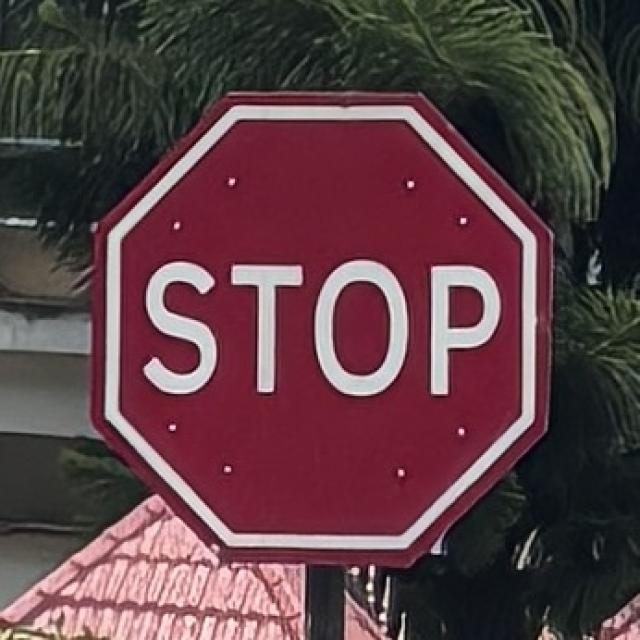STOP: (87, 84, 561, 572)
